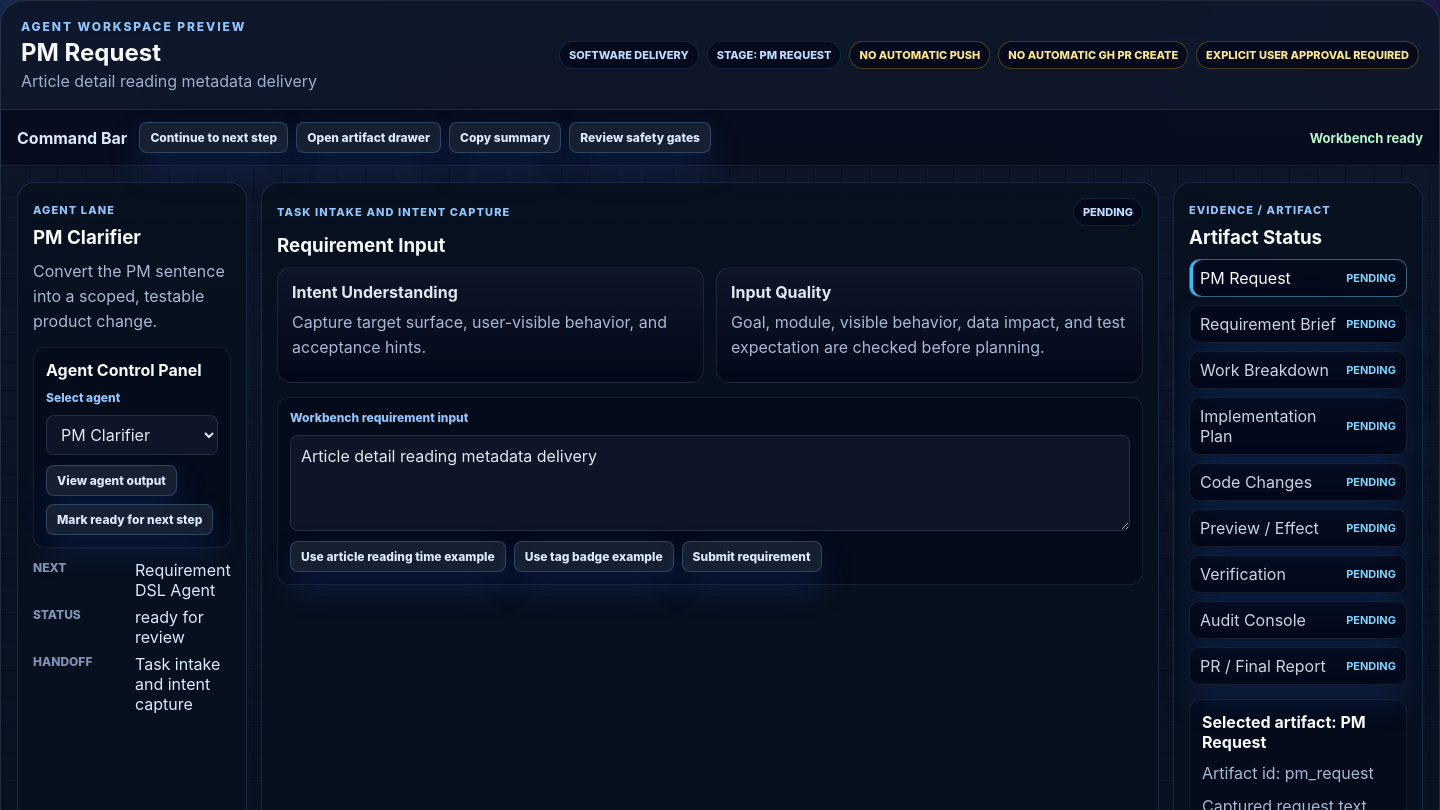
AI page team mechanism › supports interactive command and agent controls in the workbench
The image size is (1440, 810).
Expected: the text "Command Bar" is shown, [17,128,127,148]
What coordinates should you click on to do the following:
click the button "Continue to next step"
I would click on:
 (214, 138)
Its box is [139,122,288,153].
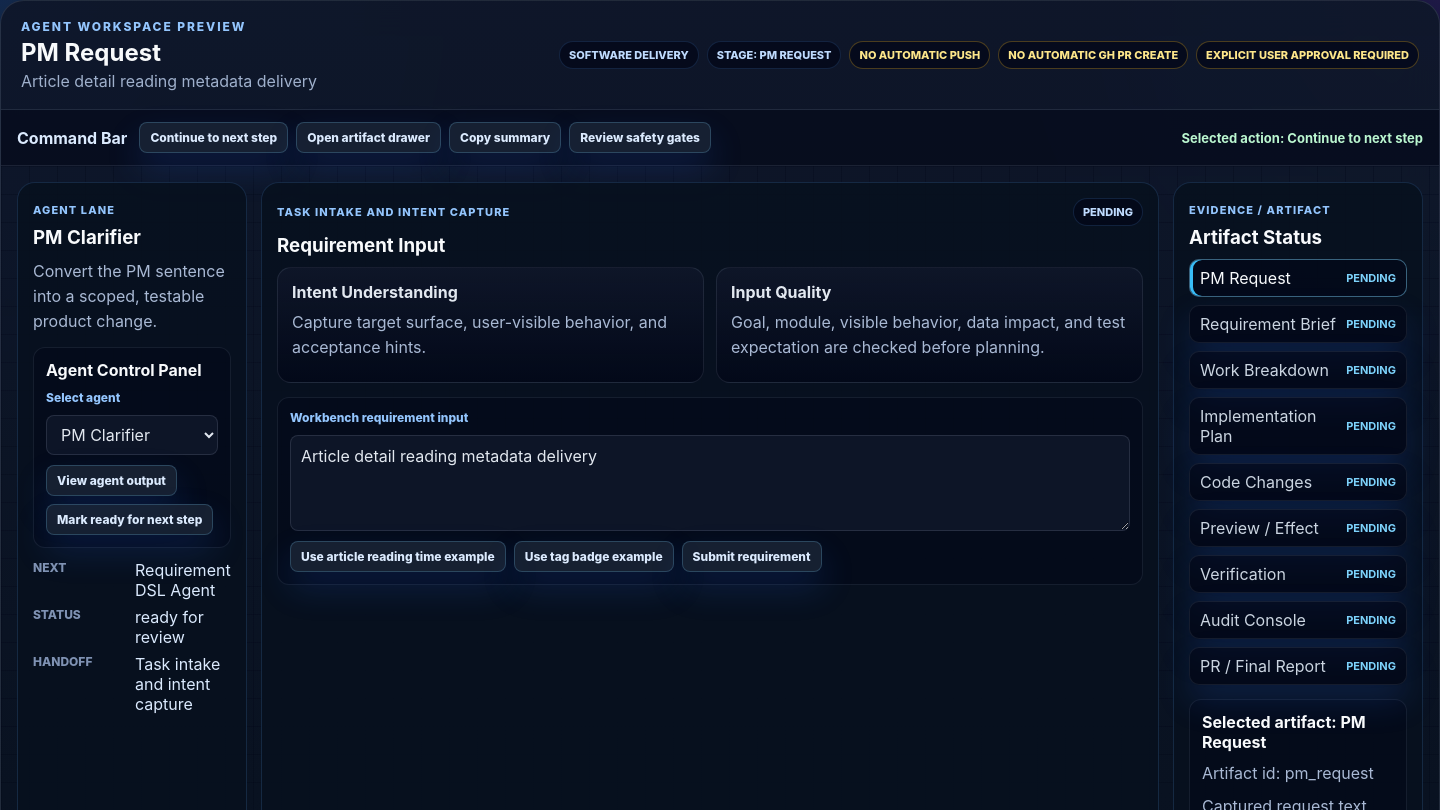
Now the text "Selected action: Continue to next step" is shown, box [1182,130,1423,146]
What coordinates should you click on to do the following:
click the button "Open artifact drawer"
I would click on:
 (369, 138)
Its box is [296,122,441,153].
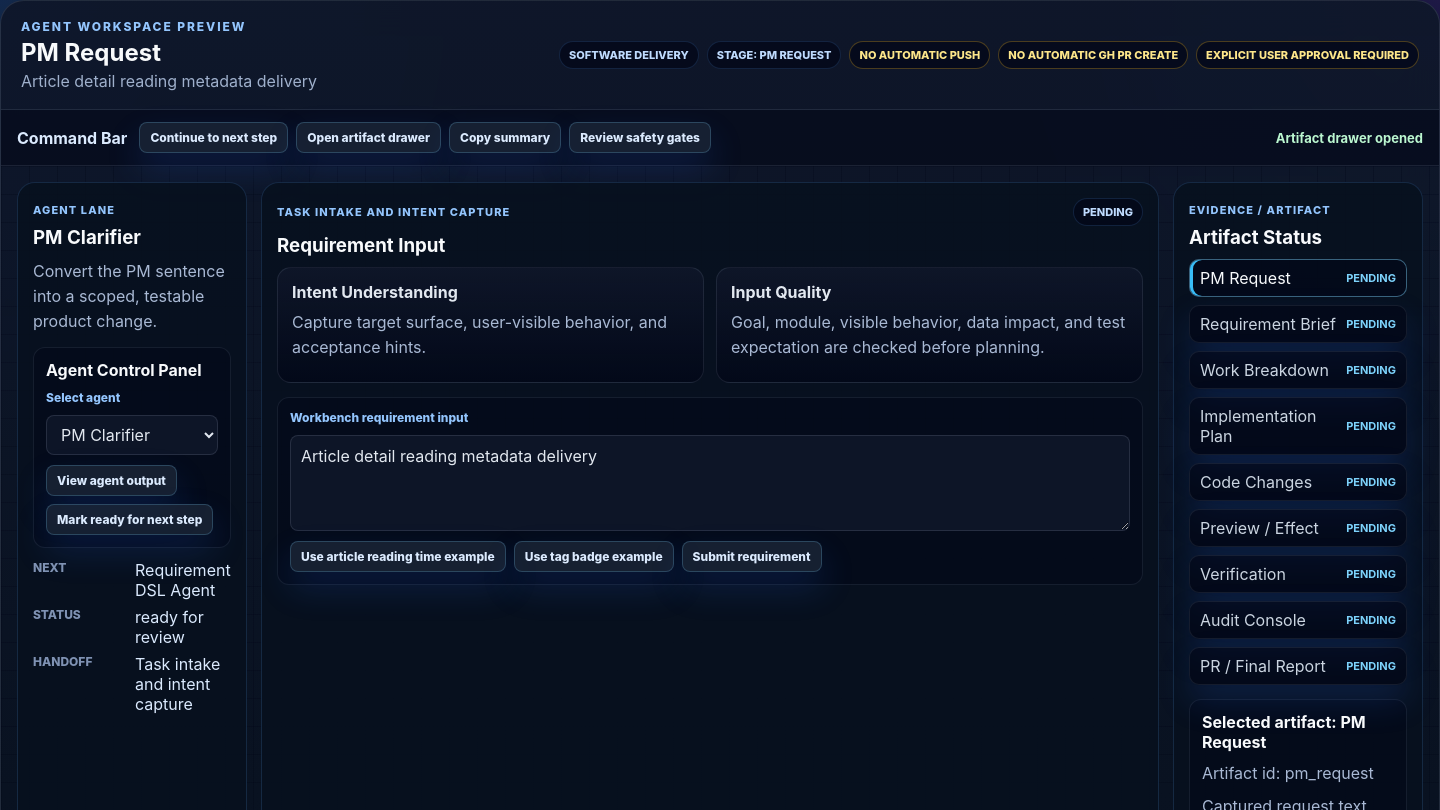
Now the text "Artifact drawer opened" is shown, box [1276,130,1423,146]
What coordinates should you click on to do the following:
click the button "Copy summary"
I would click on:
 (505, 138)
Its box is [449,122,561,153].
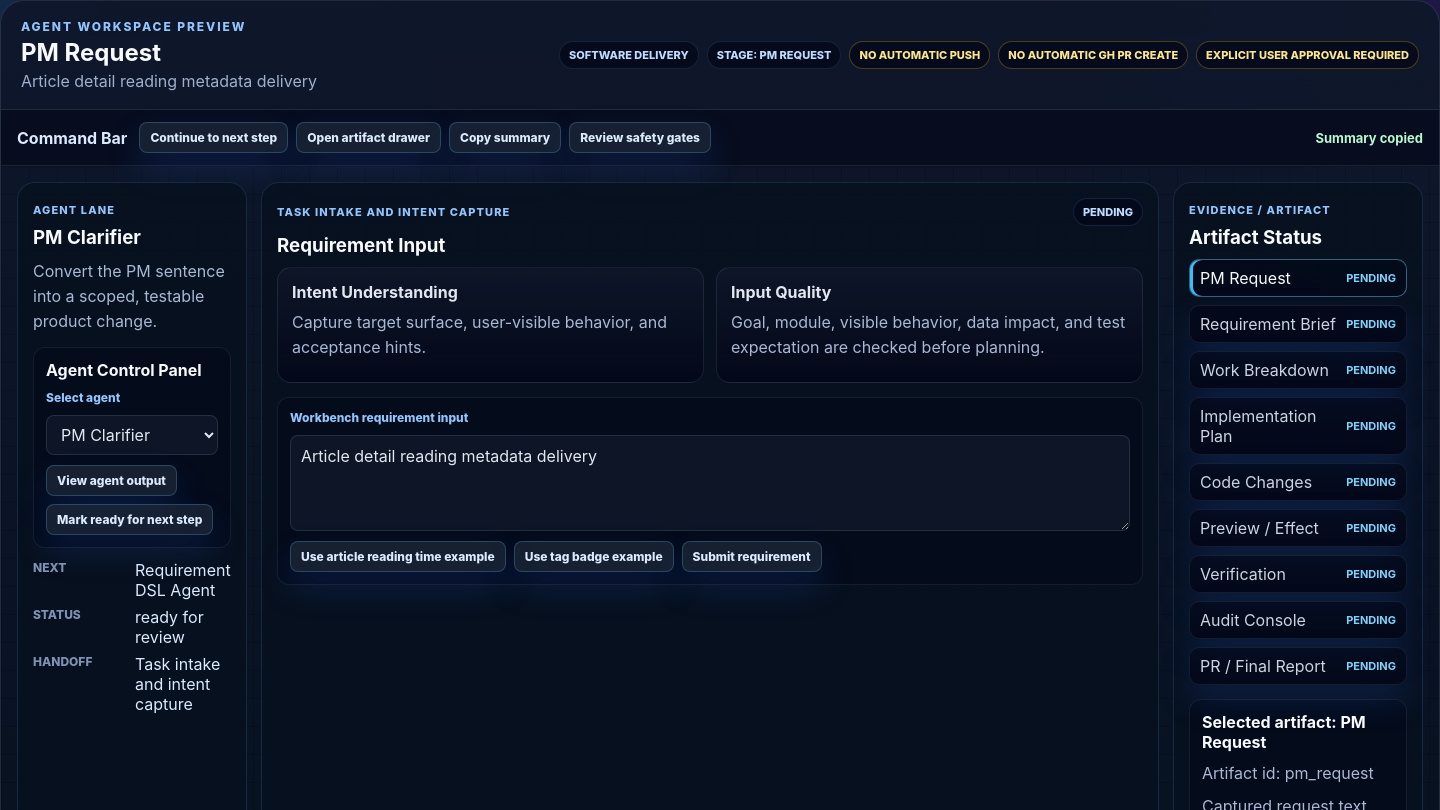
Now the text "Summary copied" is shown, box [1315,130,1423,146]
What coordinates should you click on to do the following:
click the button "Review safety gates"
I would click on:
 (640, 138)
Its box is [569,122,711,153].
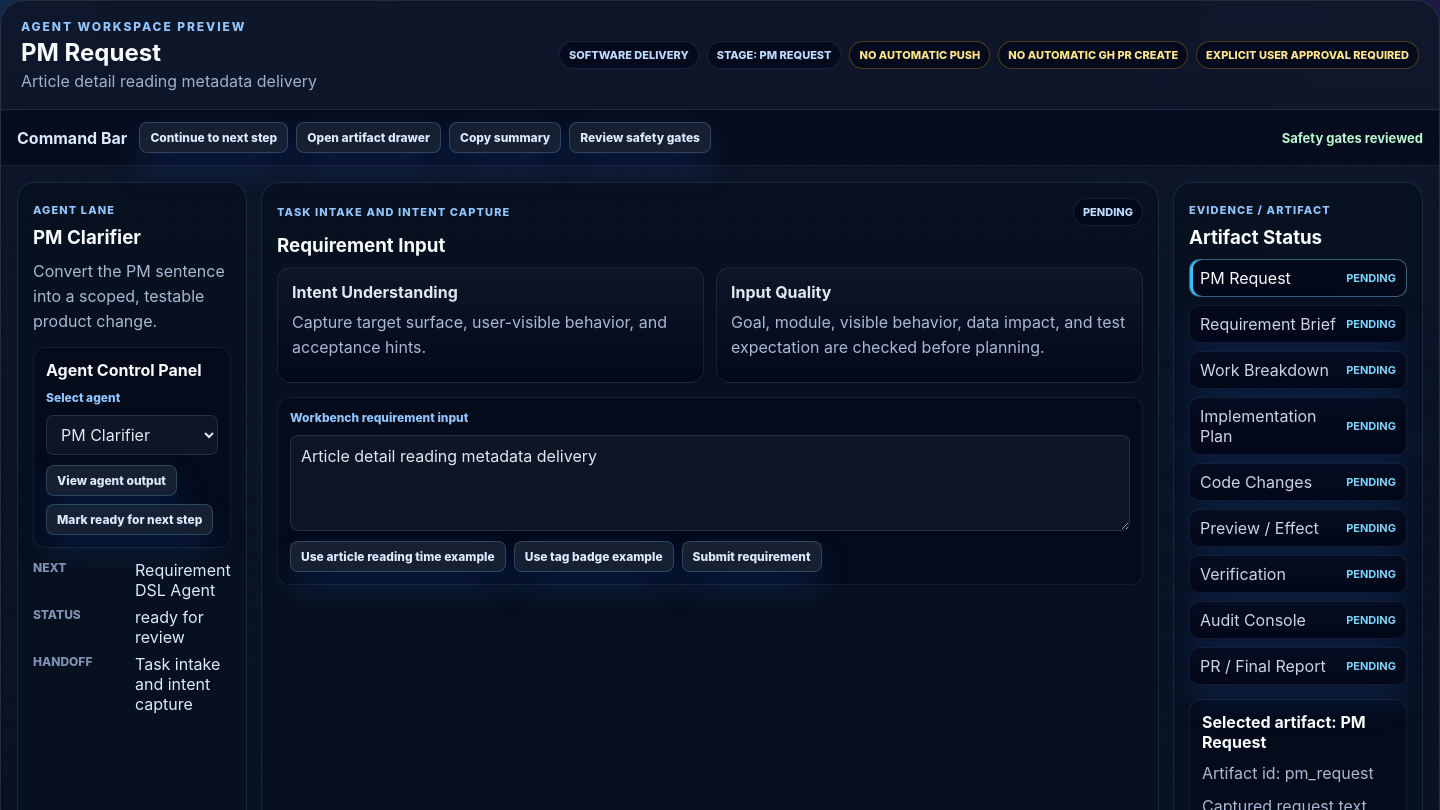
Expected: the heading "Agent Control Panel" is shown, [46,360,218,380]
Now the text "Safety gates reviewed" is shown, box [1282,130,1423,146]
What coordinates should you click on to do the following:
click the button "View agent output"
I would click on:
 (111, 481)
Its box is [46,465,177,496].
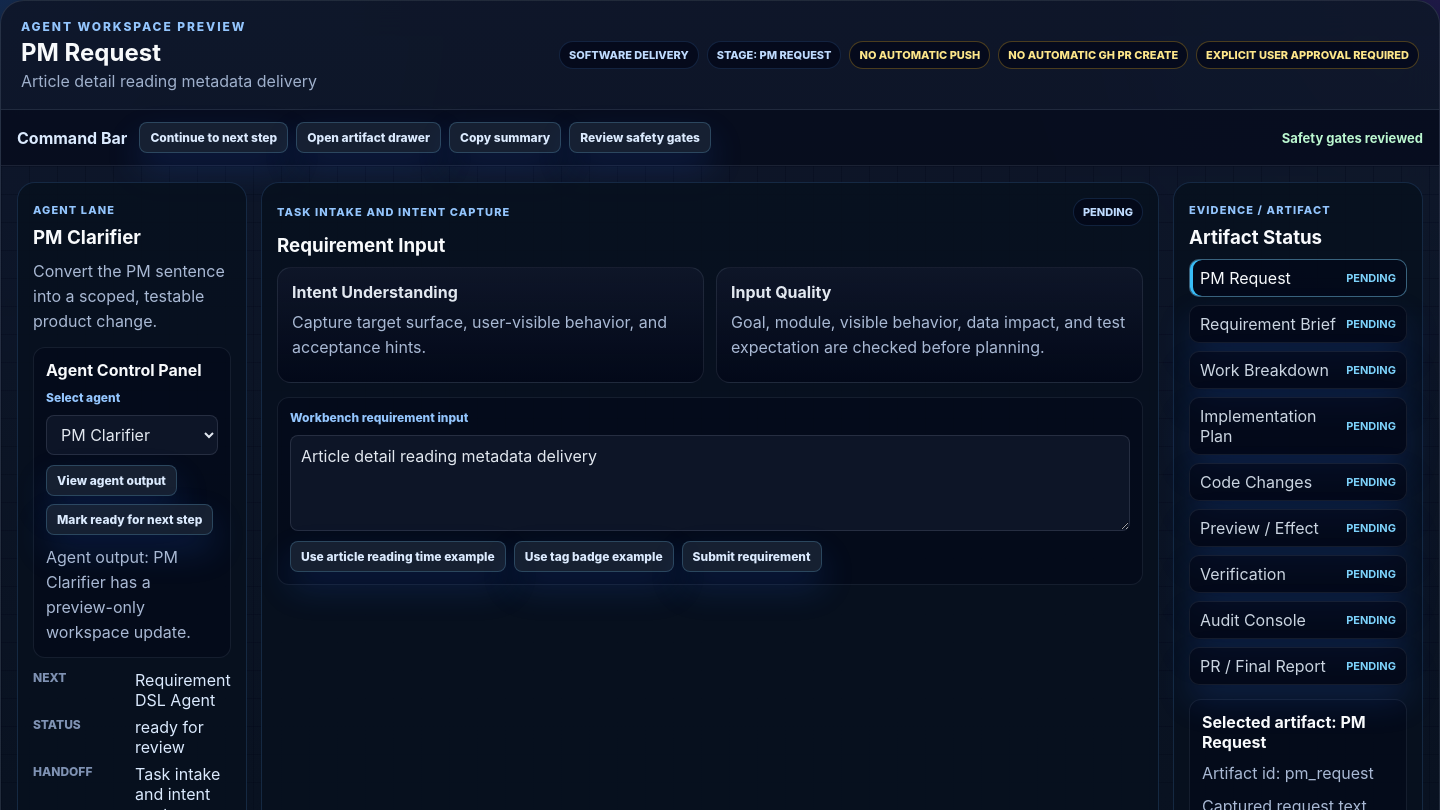
Now the text "Agent output:" is shown, box [46,547,153,567]
What coordinates should you click on to do the following:
click the button "Mark ready for next step"
I would click on:
 (130, 520)
Its box is [46,504,213,535].
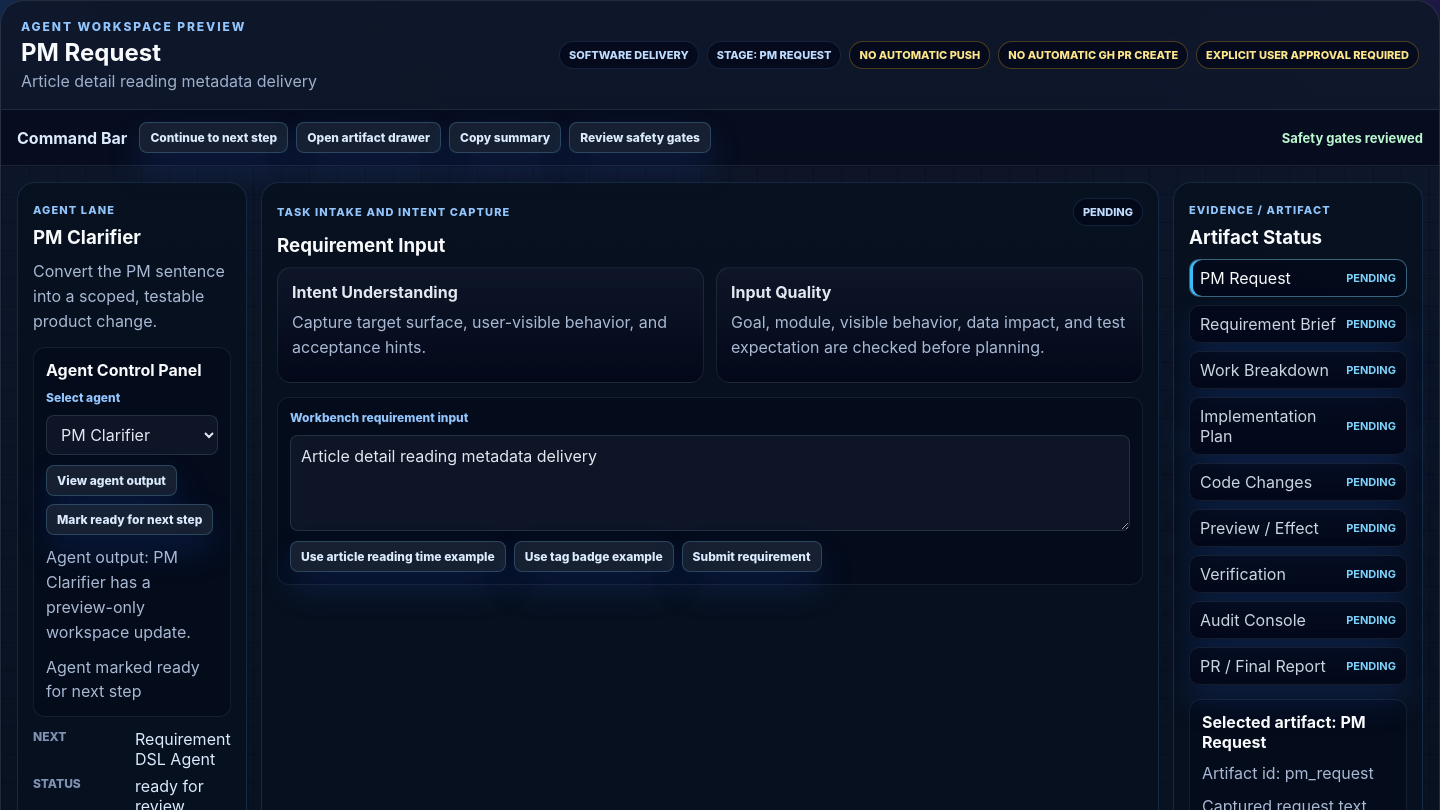
Now the text "Agent marked ready for next step" is shown, box [46,655,218,704]
